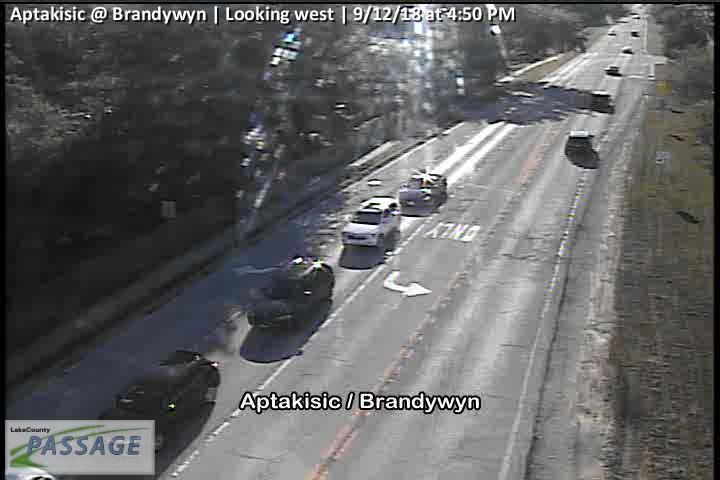SUV: (246, 254, 335, 332), (340, 195, 402, 248), (563, 129, 595, 154), (590, 90, 611, 108)
Sedan: (94, 348, 220, 455), (398, 173, 448, 208), (604, 65, 619, 74)
